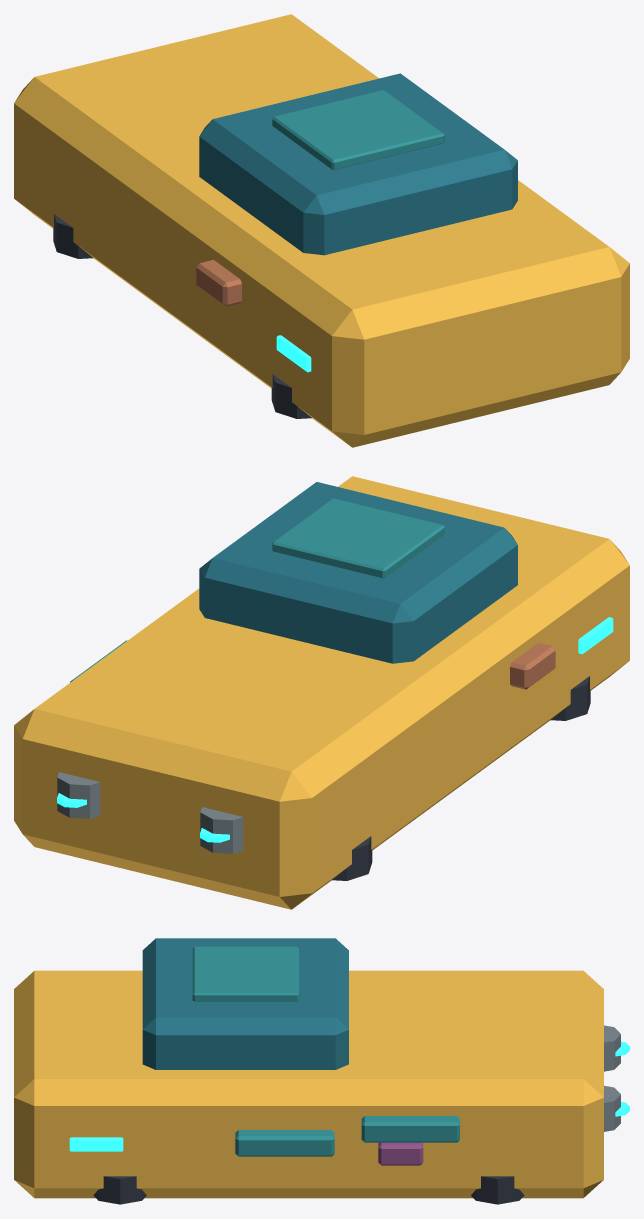
Rendered from vehicles_004_seed11.glb.
3 renders of one model, top to bottom at view 1: azimuth 30°, elevation 25°; view 2: azimuth 150°, elevation 25°; view 3: azimuth 270°, elevation 25°, orthographic. The views are drawn at different scales.
Parts seen in each view (by area): view 1: vehicles_004_seed11; view 2: vehicles_004_seed11; view 3: vehicles_004_seed11.
Part boxes in pixels (box(x1,y1,x2,y2)): vehicles_004_seed11: box(14, 14, 629, 447); vehicles_004_seed11: box(14, 476, 629, 909); vehicles_004_seed11: box(14, 938, 629, 1204).
Bounding box in the file's own units: 2.6 × 1.51 × 4.82.
